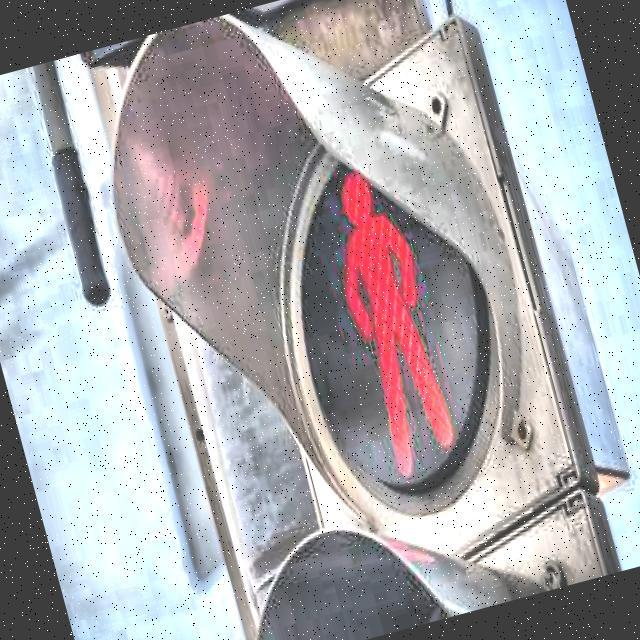red_light: (308, 152, 471, 488)
